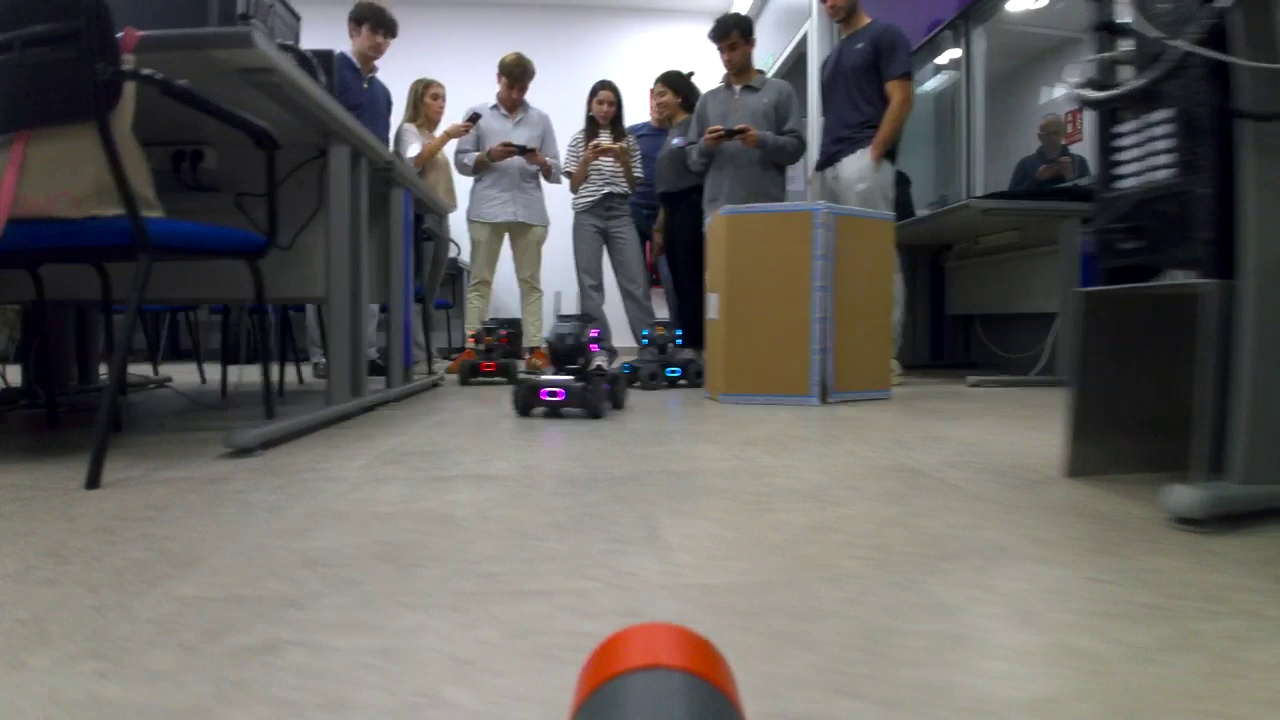robot: (512, 313, 623, 417), (617, 316, 705, 388), (455, 325, 520, 385)
